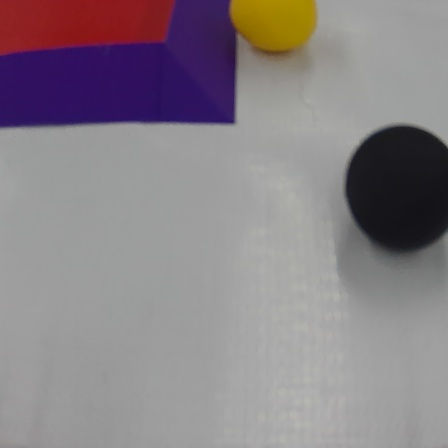black: (342, 120, 448, 257)
red_aim: (0, 0, 245, 143)
yellow: (224, 0, 324, 58)
